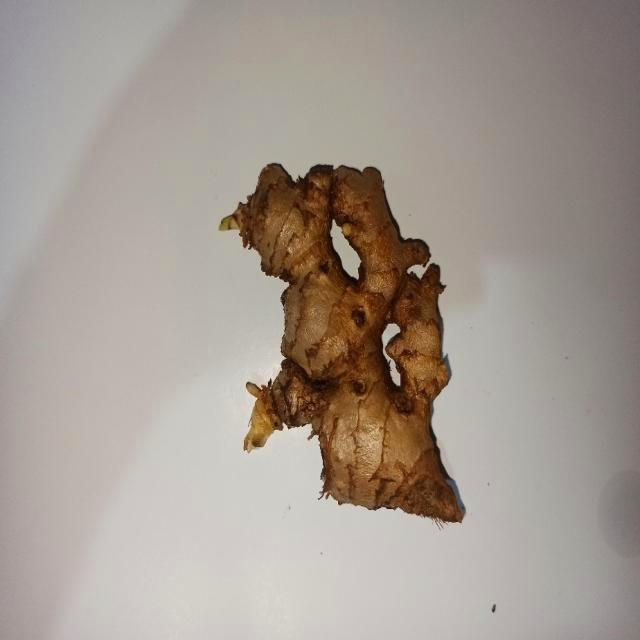ginger: (220, 157, 467, 527)
